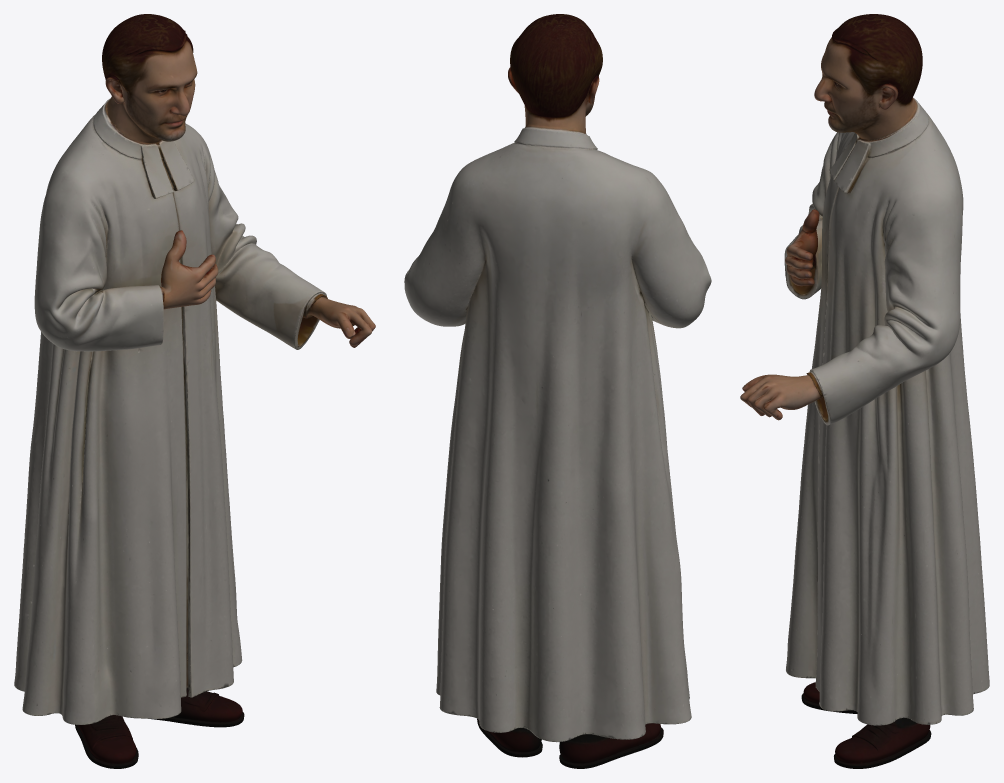
Rendered from Hermano_Miguel.glb.
3 views of the same model, side by side, from view 1: azimuth 30°, elevation 25°; view 2: azimuth 150°, elevation 25°; view 3: azimuth 270°, elevation 25° (orthographic).
Visible parts, largest first — view 1: model; view 2: model; view 3: model.
Boxes of the visible parts, bbox=[...] form: model: bbox=[14, 14, 375, 768]; model: bbox=[404, 14, 711, 768]; model: bbox=[740, 14, 989, 768].
Size of the model in its own units: 0.4395 by 1 by 0.3184.
1 material, 1 textured.
